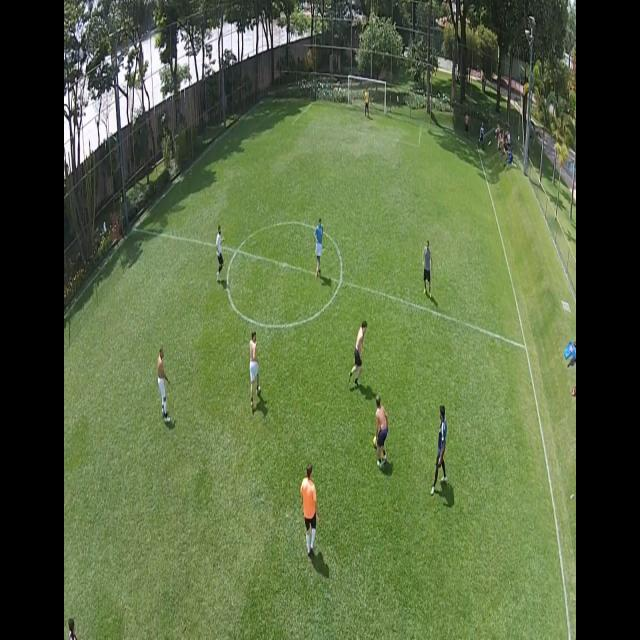humans: (298, 455, 323, 560), (429, 400, 452, 505), (372, 390, 392, 475), (247, 330, 266, 418), (154, 342, 173, 427), (348, 317, 368, 389), (310, 206, 326, 285), (420, 235, 436, 302), (213, 218, 227, 285), (362, 80, 373, 124)
